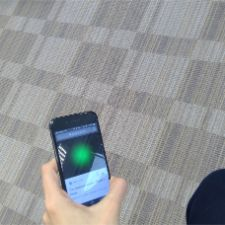focus: (67, 142, 98, 168)
